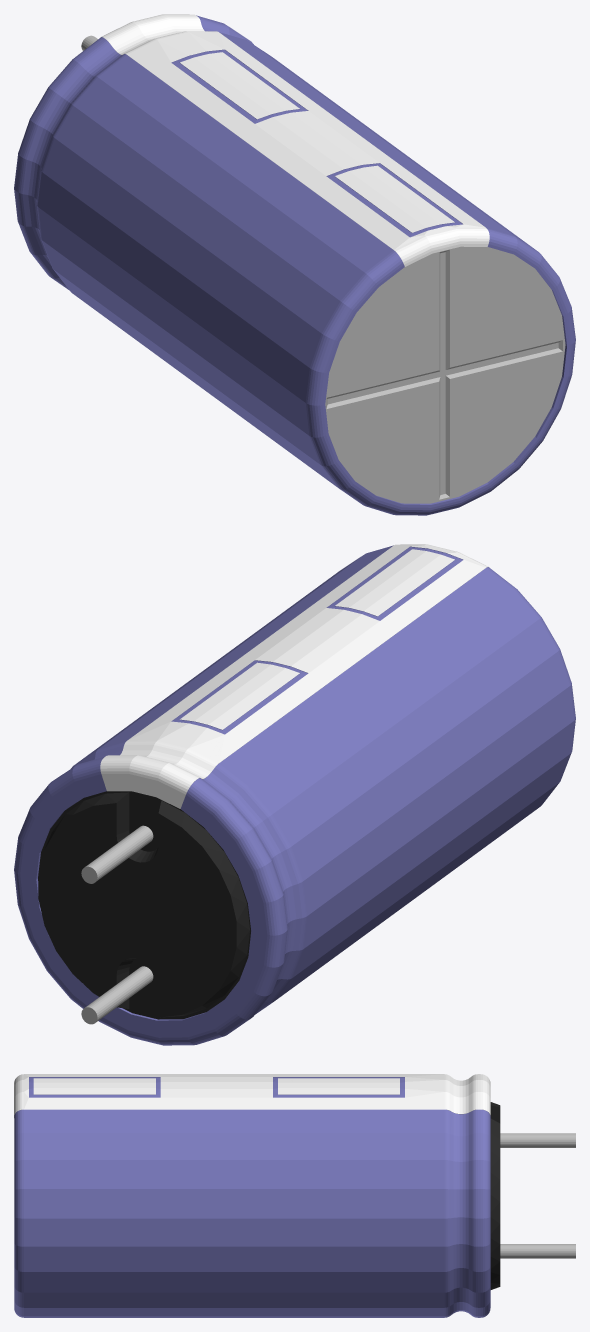
Rendered from cap_el_d10_h20_pitch5_w0.6.obj.
The picture shows the model from 3 angles, top to bottom: view 1: azimuth 30°, elevation 25°; view 2: azimuth 150°, elevation 25°; view 3: azimuth 270°, elevation 25°; orthographic projection. The views are drawn at different scales.
Visible parts, largest first — view 1: cap_el_d10_h20_pitch5_w0.6; view 2: cap_el_d10_h20_pitch5_w0.6; view 3: cap_el_d10_h20_pitch5_w0.6.
Part boxes in pixels (x1,y1,x2,y2): cap_el_d10_h20_pitch5_w0.6: (14,14,575,515); cap_el_d10_h20_pitch5_w0.6: (14,544,575,1045); cap_el_d10_h20_pitch5_w0.6: (14,1074,575,1317).
Bounding box in the file's own units: 0.00469 × 0.00467 × 0.0108.
